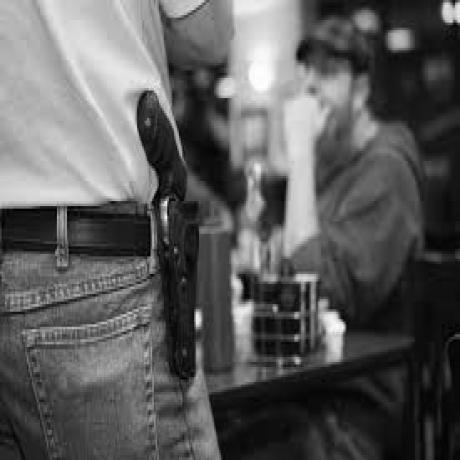Guns: (133, 75, 201, 369)
